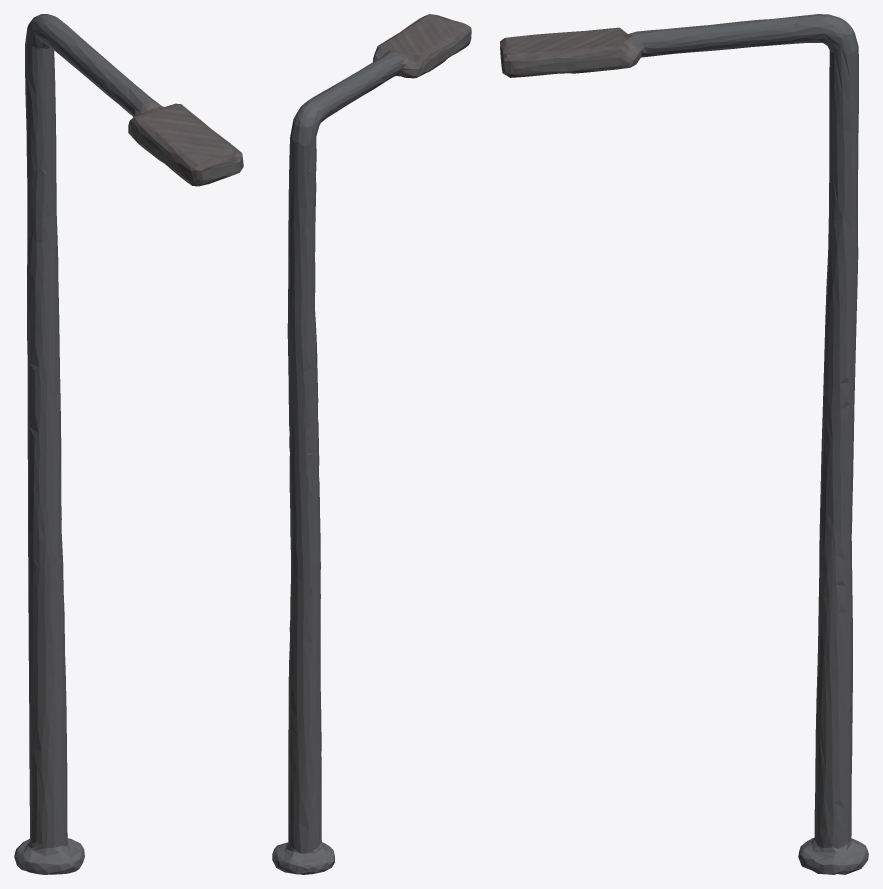
File: streetlamp.fbx
3 views of the same model, side by side, from view 1: azimuth 30°, elevation 25°; view 2: azimuth 150°, elevation 25°; view 3: azimuth 270°, elevation 25° (orthographic). The views are drawn at different scales.
Parts seen in each view (by area): view 1: Mesh_0; view 2: Mesh_0; view 3: Mesh_0.
Part boxes in pixels (left/top/right/bottom): Mesh_0: left=14, top=14, right=243, bottom=874; Mesh_0: left=272, top=14, right=471, bottom=874; Mesh_0: left=500, top=14, right=868, bottom=874.
Size of the model in its own units: 0.6177 by 8 by 3.17.
Materials: 1 (1 with a texture image).
